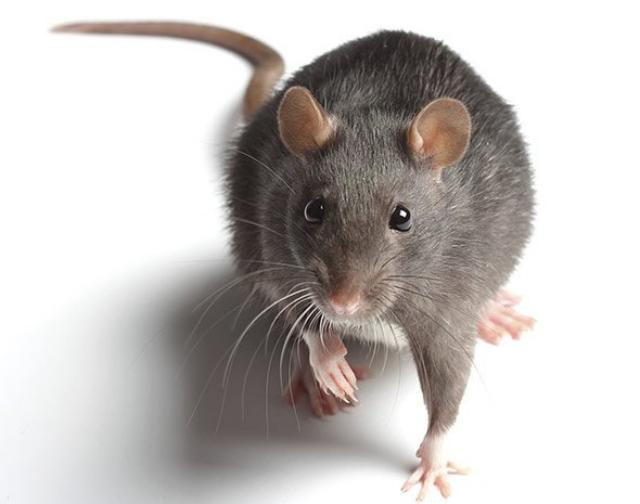rat: (206, 12, 548, 504)
